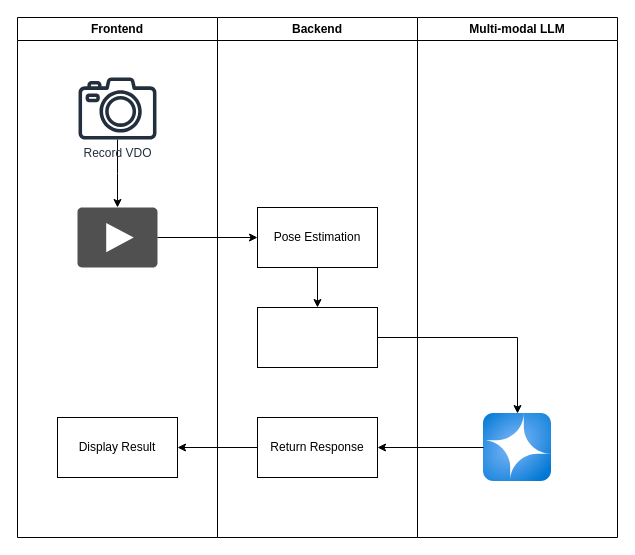
Image size: 635x555. Some labels were removed from this diagram. The shapes that lost their labels are listed below. From the top down, each one's centre as x and y in pixels, then its label:
point 117,237: Upload VDO File
point 317,337: Upload VDO to LLM
point 517,447: LLM generates response Text
